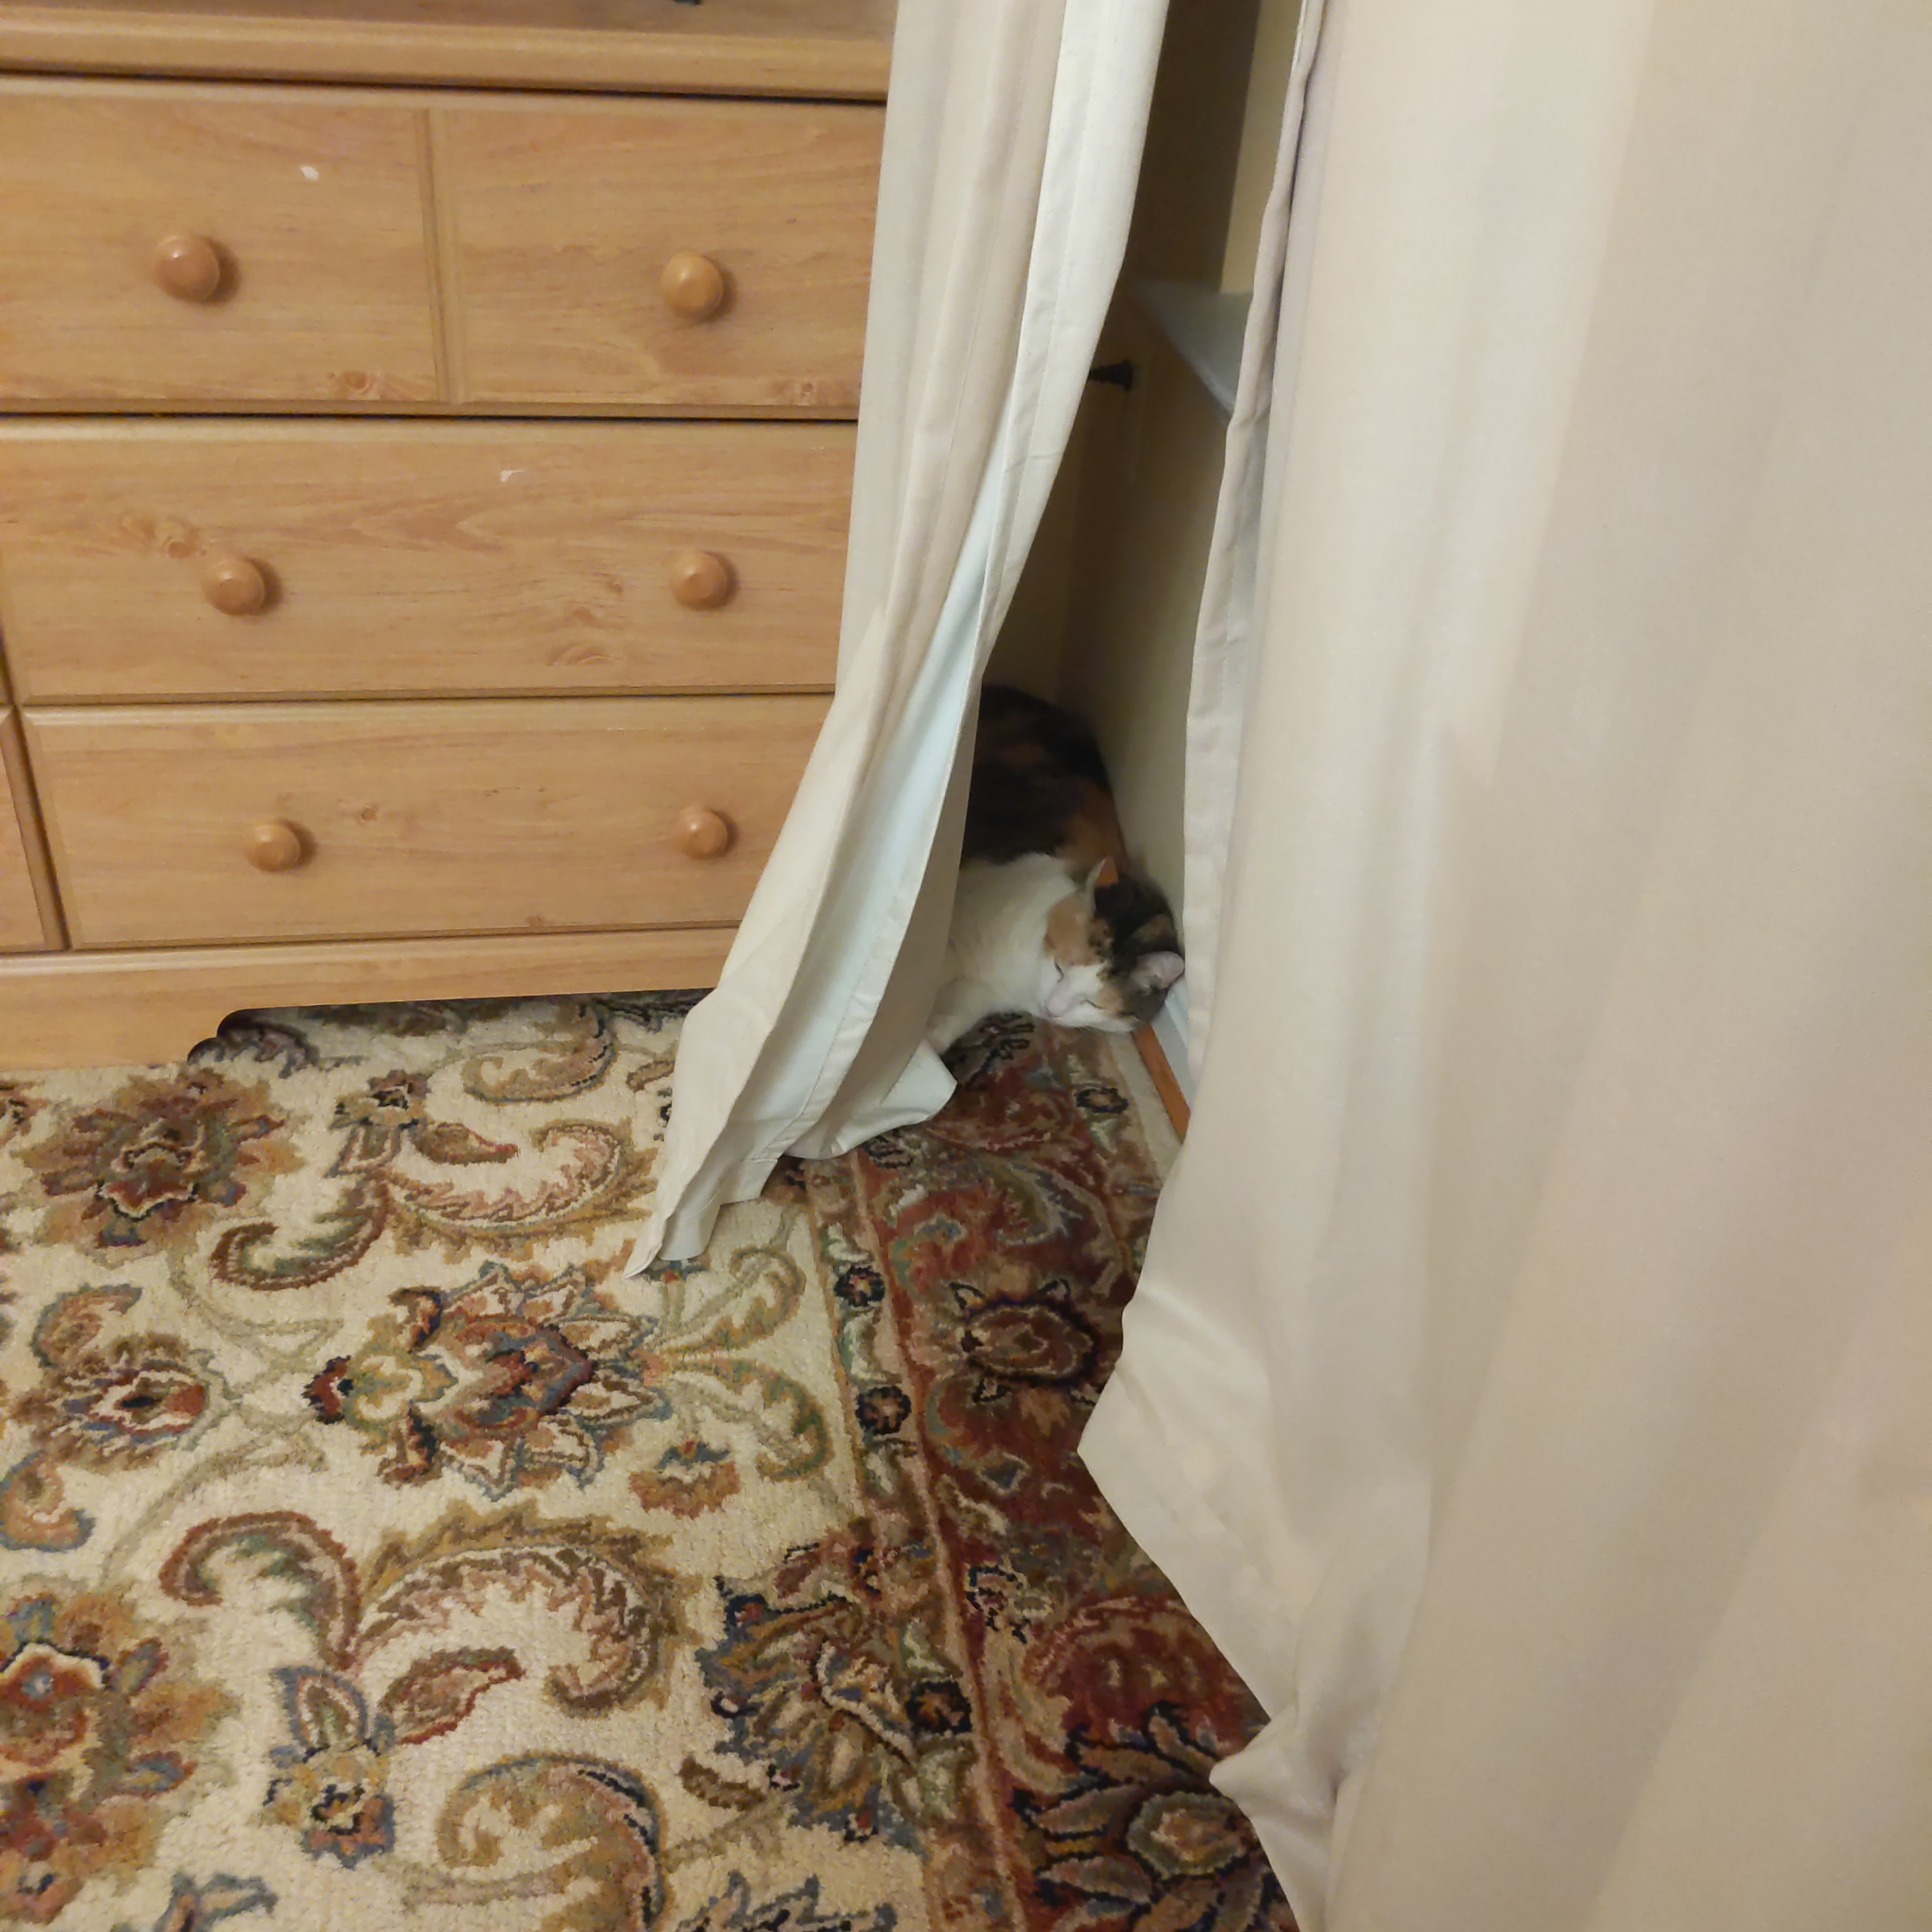Calico: (929, 685, 1185, 1053)
